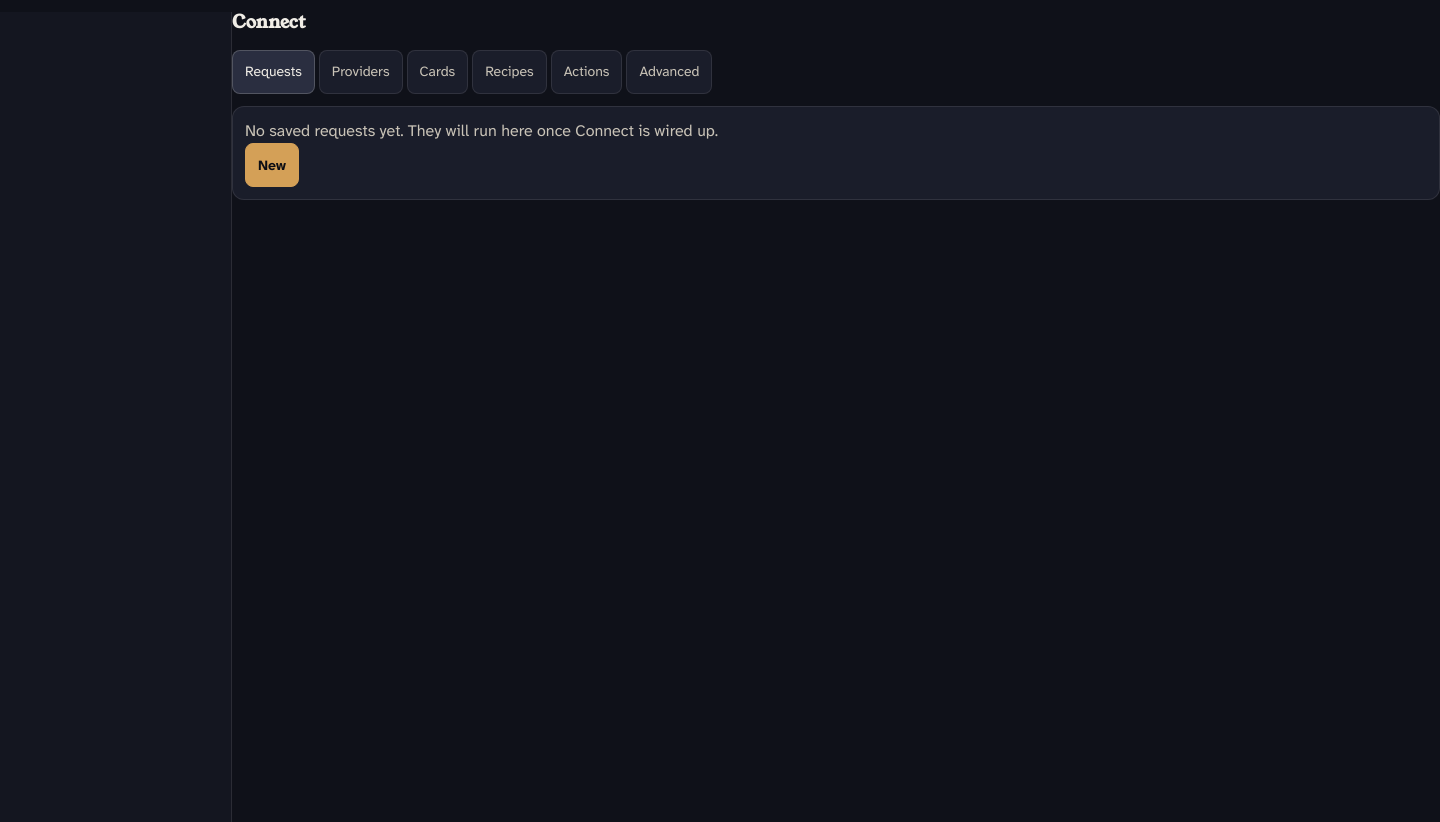
it: Connect › Actions: lists the real API actions, read and write as words, and holds no Run control
Click the tab "Actions". click: (586, 72)
box: [551,50,622,94]
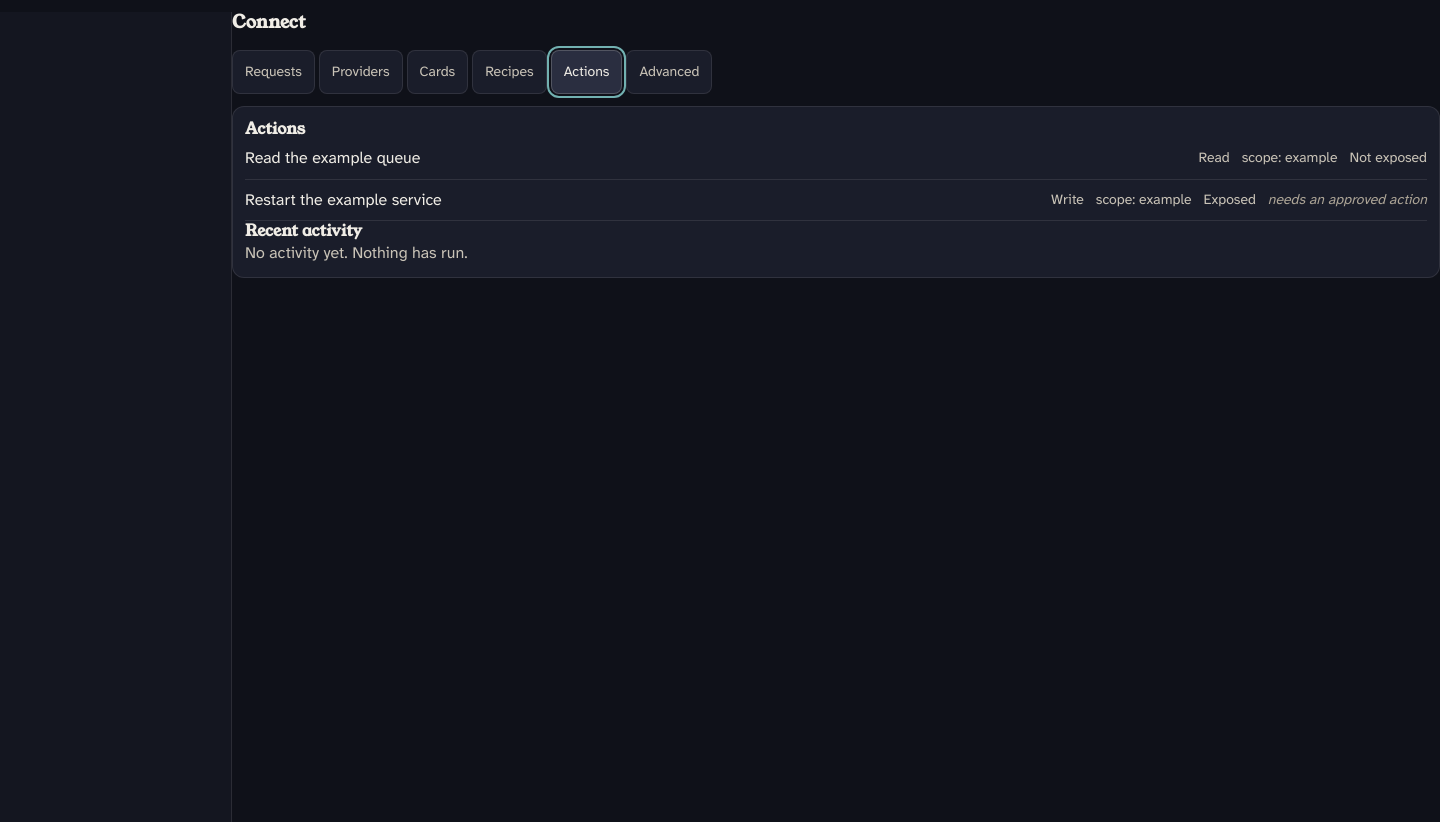
expect the text "Read the example queue" is shown: met, box [245,147,420,168]
expect the text "Read" is shown: met, box [1199,147,1230,169]
expect the text "Restart the example service" is shown: met, box [245,189,442,210]
